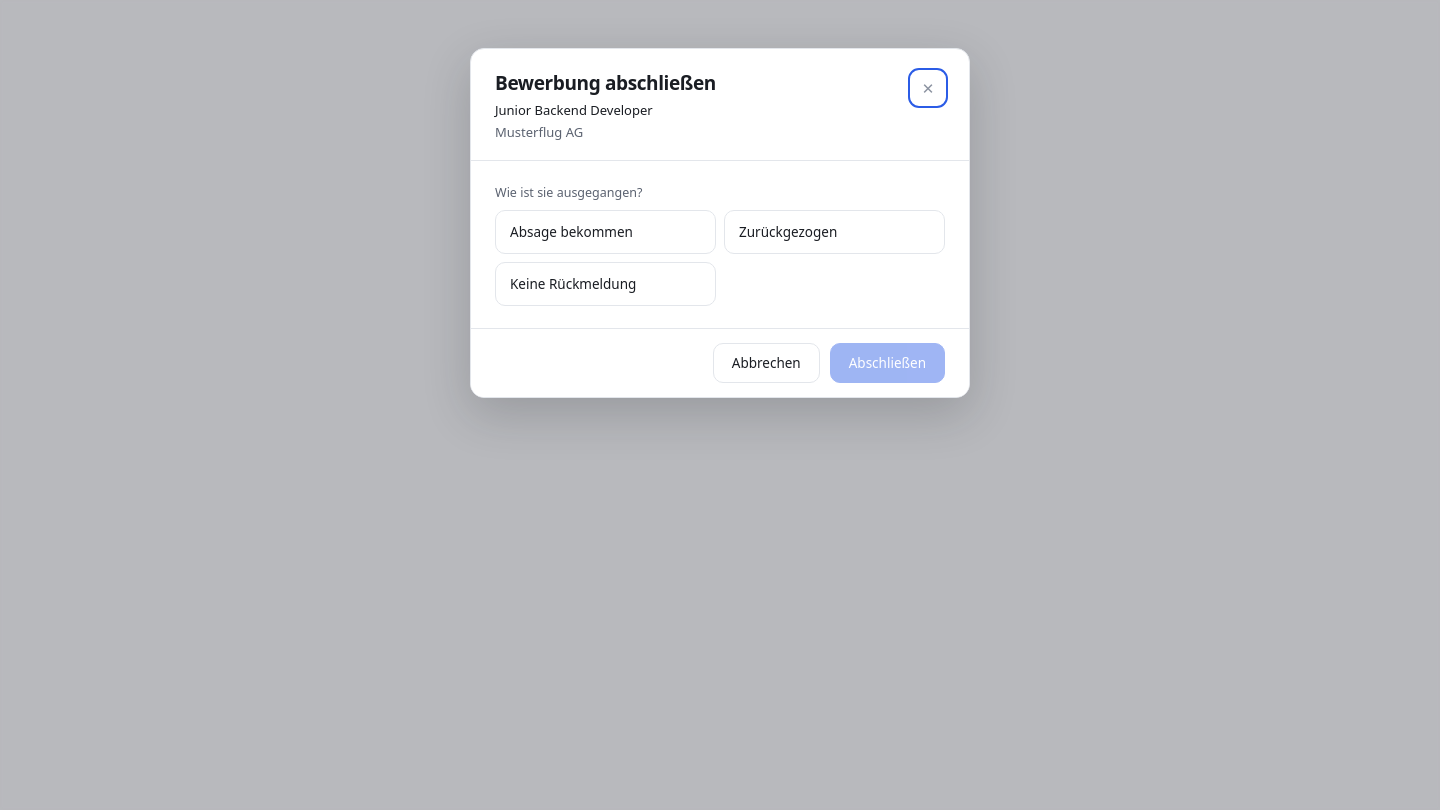
Scenario: CloseApplicationDialog › bietet je nach Status die passenden Ausgänge ohne Vorauswahl an
This screenshot has width=1440, height=810.
Expected: the button "Abschließen" is disabled, x1=830 y1=343 x2=945 y2=383
Click the radio button labelled "Zurückgezogen": (834, 232) x1=724 y1=210 x2=945 y2=254
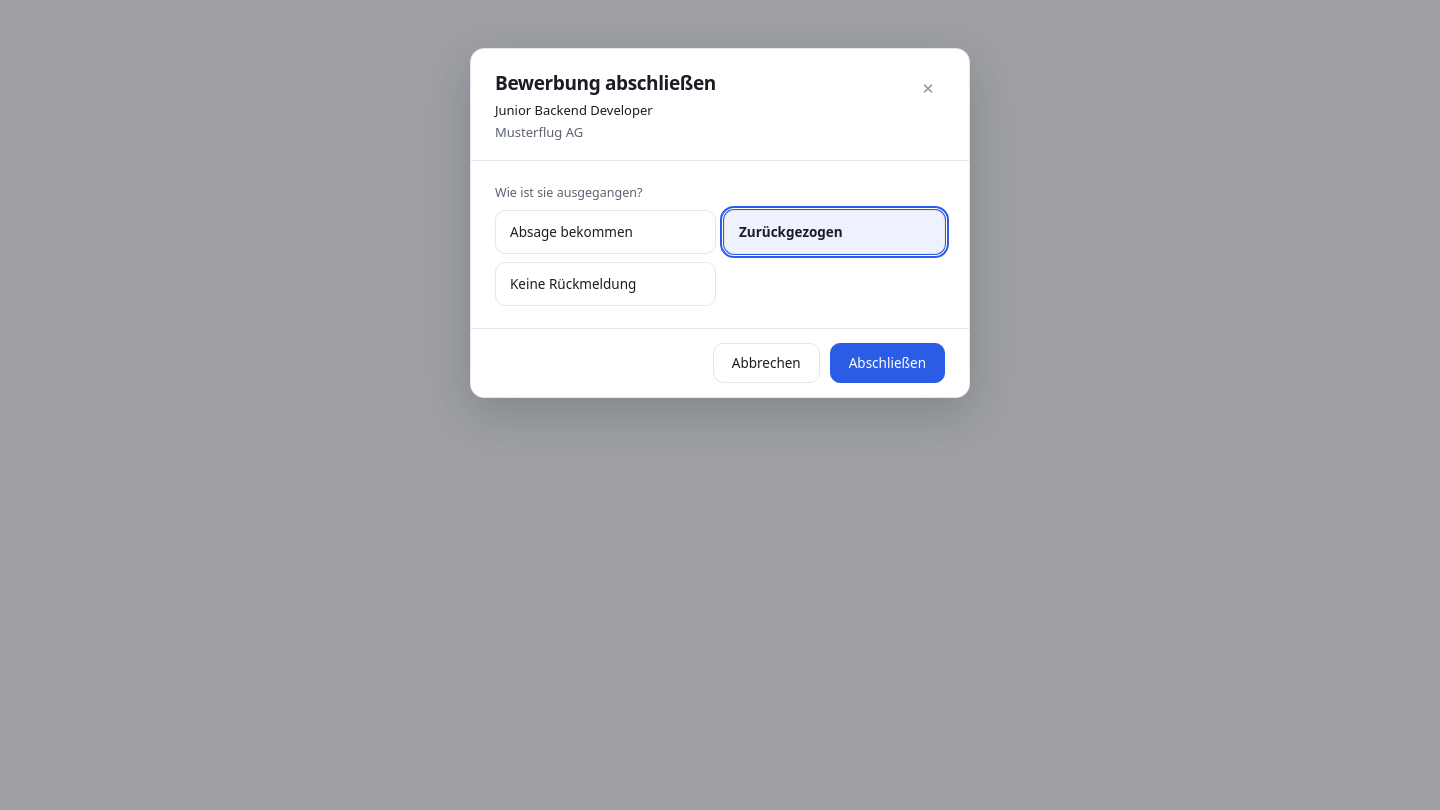
Now the radio button labelled "Zurückgezogen" is checked, box x1=724 y1=210 x2=945 y2=254
Now the button "Abschließen" is enabled, box x1=830 y1=343 x2=945 y2=383
